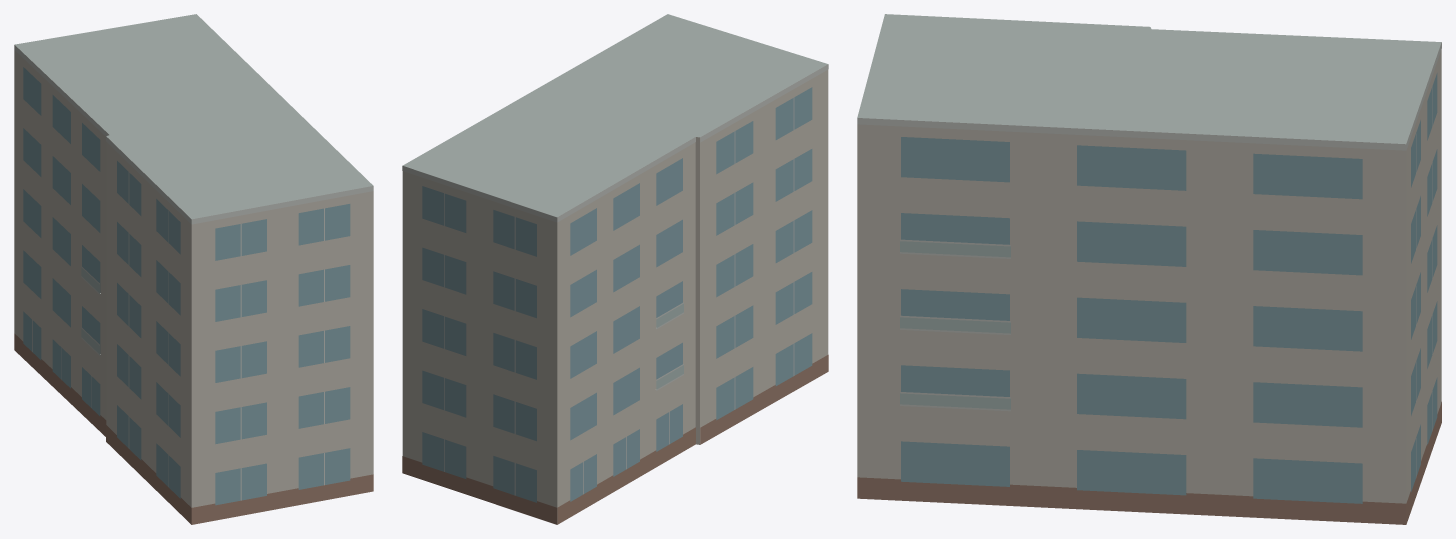
Rendered from survey-upis-32523174.glb.
3 views of the same model, side by side, from view 1: azimuth 30°, elevation 25°; view 2: azimuth 150°, elevation 25°; view 3: azimuth 270°, elevation 25° (orthographic). The views are drawn at different scales.
Parts seen in each view (by area): view 1: survey-upis-32523174.tmp; view 2: survey-upis-32523174.tmp; view 3: survey-upis-32523174.tmp.
Part boxes in pixels (x1,y1,x2,y2): survey-upis-32523174.tmp: (14, 14, 373, 524); survey-upis-32523174.tmp: (402, 14, 828, 524); survey-upis-32523174.tmp: (857, 14, 1441, 524).
Size of the model in its own units: 10.5 by 14.3 by 19.91.
